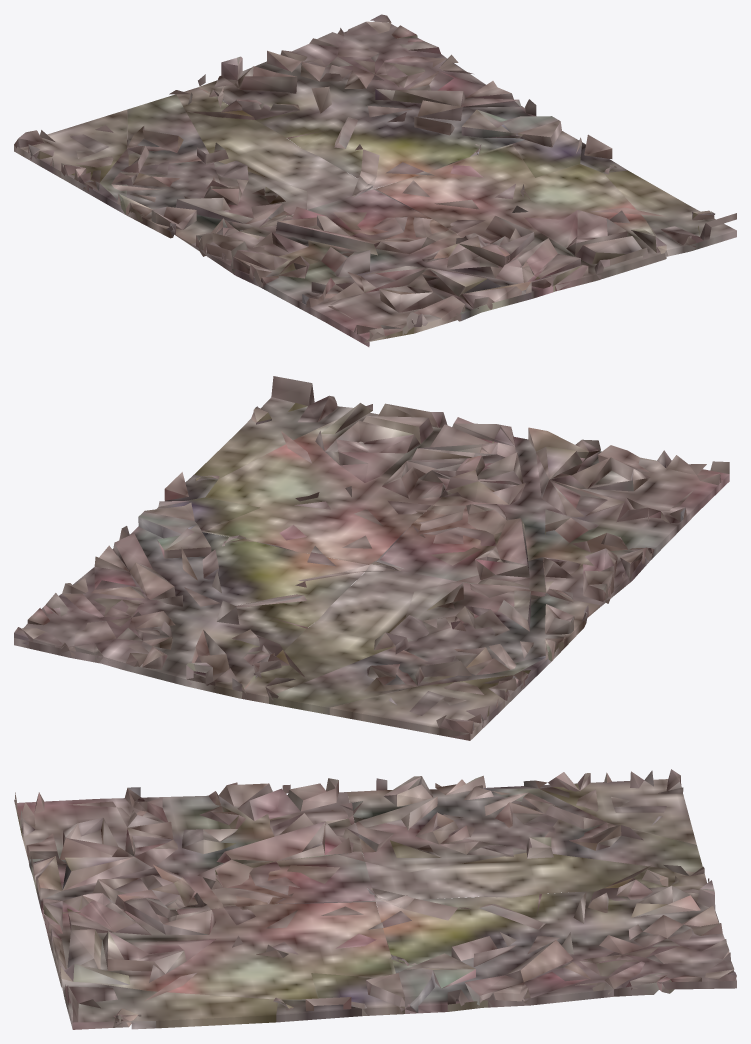
3 renders of one model, top to bottom at view 1: azimuth 30°, elevation 25°; view 2: azimuth 150°, elevation 25°; view 3: azimuth 270°, elevation 25°, orthographic. The views are drawn at different scales.
Visible parts, largest first — view 1: Mesh_0; view 2: Mesh_0; view 3: Mesh_0.
Part boxes in pixels (x1,y1,x2,y2): Mesh_0: (14,14,736,346); Mesh_0: (14,376,729,740); Mesh_0: (14,769,736,1029).
Bounding box in the file's own units: 1065 × 73.78 × 1320.
Materials: 1 (1 with a texture image).
